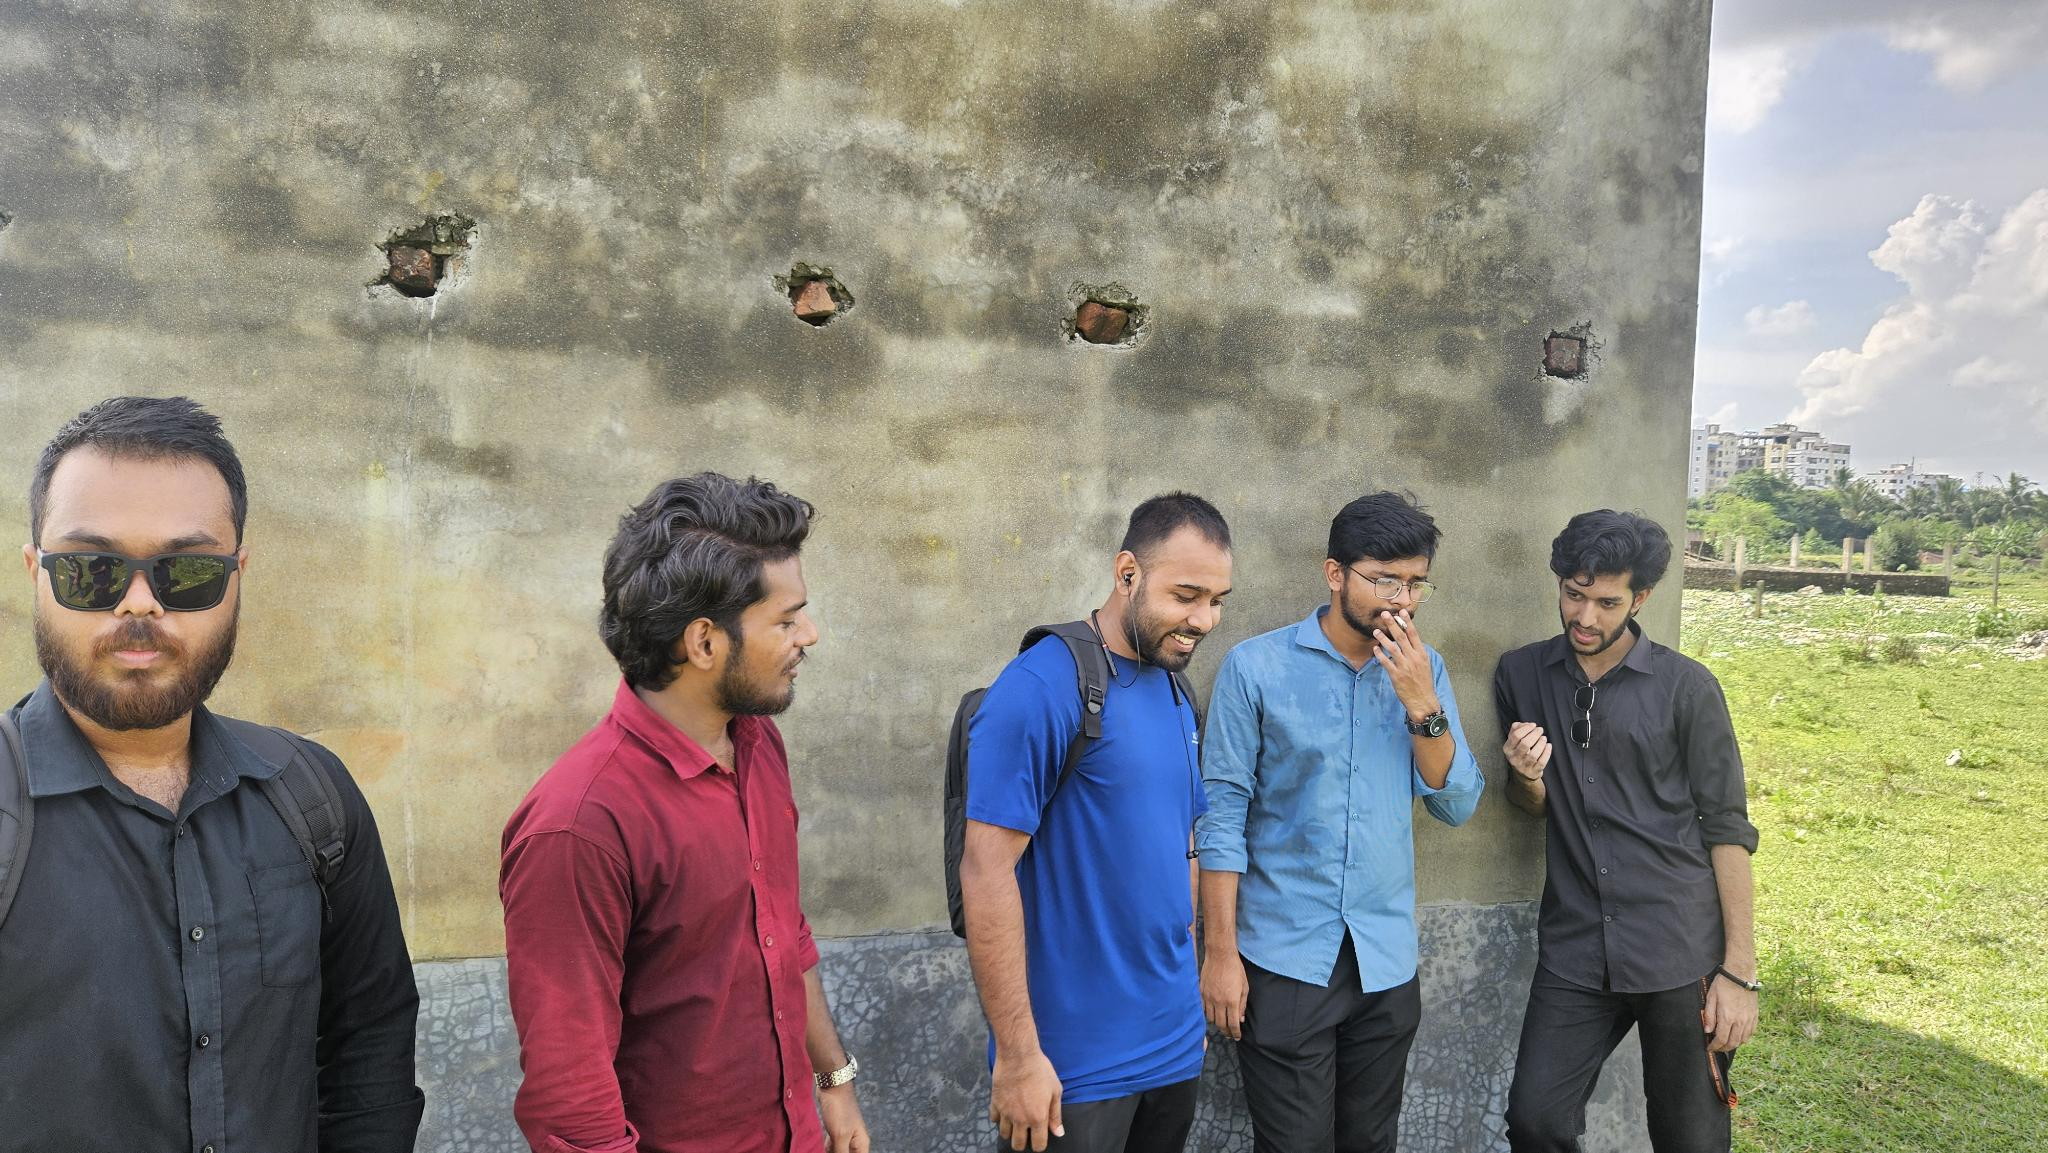cigarette: (1391, 613, 1409, 631)
nonSmoker: (0, 397, 426, 1153), (501, 470, 869, 1153), (940, 489, 1234, 1153), (1490, 508, 1760, 1153)
smoker: (1203, 492, 1480, 1153)
